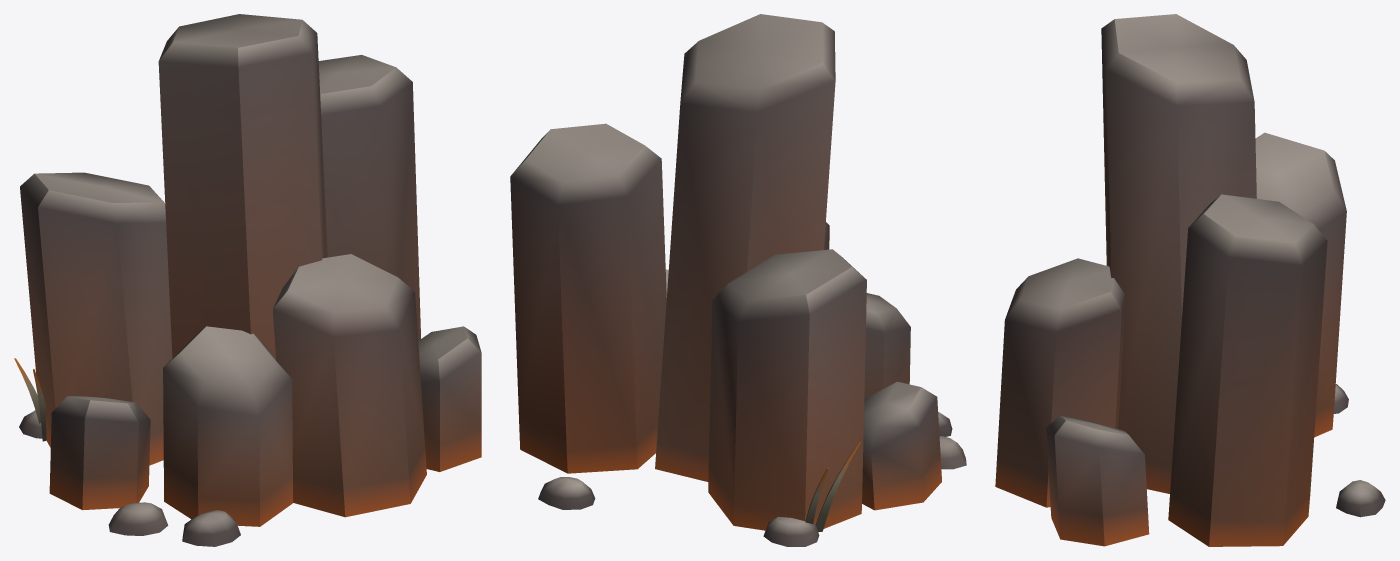
File: EmberRockB.fbx
The picture shows the model from 3 angles, left to right: view 1: azimuth 30°, elevation 25°; view 2: azimuth 150°, elevation 25°; view 3: azimuth 270°, elevation 25°; orthographic projection. The views are drawn at different scales.
Visible parts, largest first — view 1: EmberRockB; view 2: EmberRockB; view 3: EmberRockB.
Part boxes in pixels (x1,y1,x2,y2): EmberRockB: [14, 14, 481, 546]; EmberRockB: [510, 14, 966, 546]; EmberRockB: [995, 14, 1385, 546].
Size of the model in its own units: 0.9844 by 1.09 by 0.9132.
